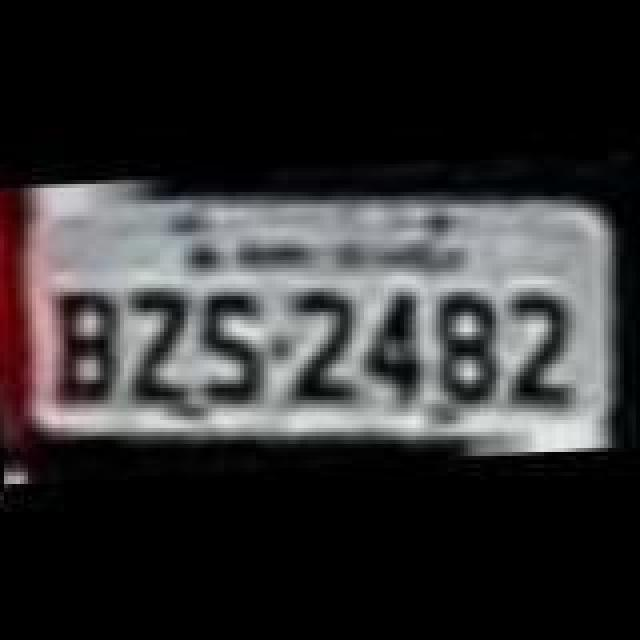2: (502, 286, 582, 418), (286, 286, 366, 414)
4: (364, 284, 432, 408)
8: (434, 288, 506, 412)
B: (48, 282, 132, 414)
S: (196, 278, 272, 406)
Z: (118, 282, 198, 414)
